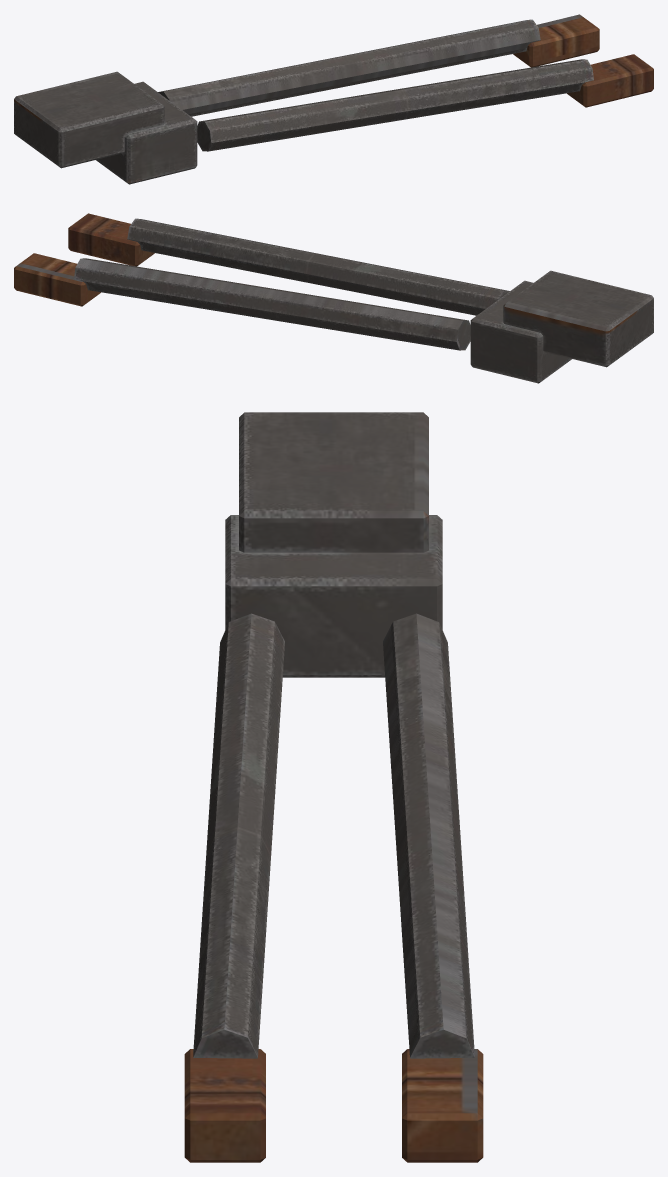
File: crutch_bipod.glb
3 renders of one model, top to bottom at view 1: azimuth 30°, elevation 25°; view 2: azimuth 150°, elevation 25°; view 3: azimuth 270°, elevation 25°, orthographic. The views are drawn at different scales.
Parts seen in each view (by area): view 1: LegR, crutch_bipod, LegL; view 2: LegL, crutch_bipod, LegR; view 3: crutch_bipod, LegL, LegR.
Part boxes in pixels (left/top/right/bottom): LegR: left=197, top=54, right=653, bottom=151; crutch_bipod: left=14, top=71, right=197, bottom=184; LegL: left=158, top=14, right=599, bottom=116; LegL: left=14, top=253, right=470, bottom=350; crutch_bipod: left=470, top=270, right=653, bottom=383; LegR: left=68, top=213, right=509, bottom=315; crutch_bipod: left=225, top=412, right=442, bottom=677; LegL: left=383, top=613, right=483, bottom=1162; LegR: left=184, top=613, right=284, bottom=1162.
Bounding box in the file's own units: 0.2475 × 0.038 × 0.055.
Materials: 1 (1 with a texture image).
